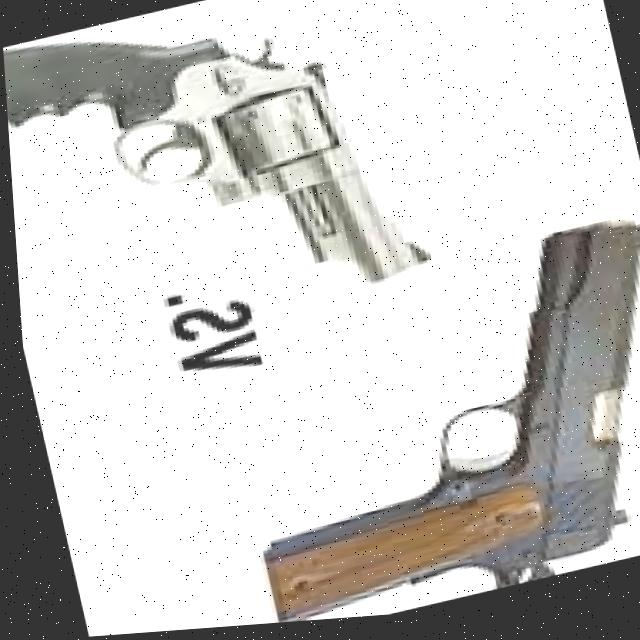pistol: (204, 219, 640, 629), (0, 0, 433, 365)
